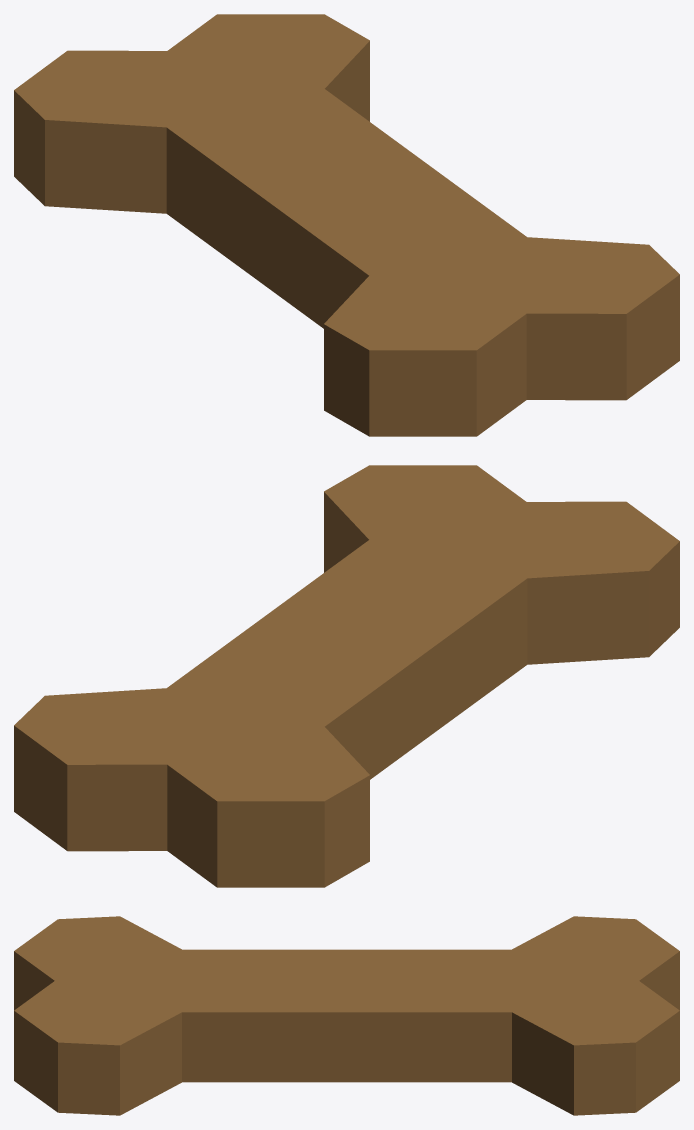
File: biscoito_foda.fbx
3 renders of one model, top to bottom at view 1: azimuth 30°, elevation 25°; view 2: azimuth 150°, elevation 25°; view 3: azimuth 270°, elevation 25°, orthographic. The views are drawn at different scales.
Parts seen in each view (by area): view 1: Cube; view 2: Cube; view 3: Cube.
Boxes of the visible parts, bbox=[...] form: Cube: bbox=[14, 14, 679, 436]; Cube: bbox=[14, 465, 679, 887]; Cube: bbox=[14, 916, 679, 1115].
Bounding box in the file's own units: 0.0529 × 0.1152 × 0.0134.
